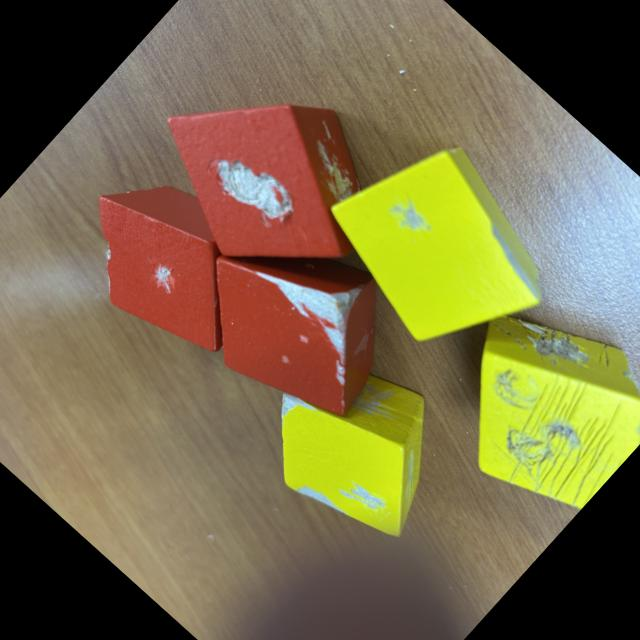broken: (124, 30, 418, 320), (303, 110, 582, 384), (166, 194, 422, 447), (409, 271, 640, 535), (51, 144, 291, 380), (241, 328, 479, 564)
